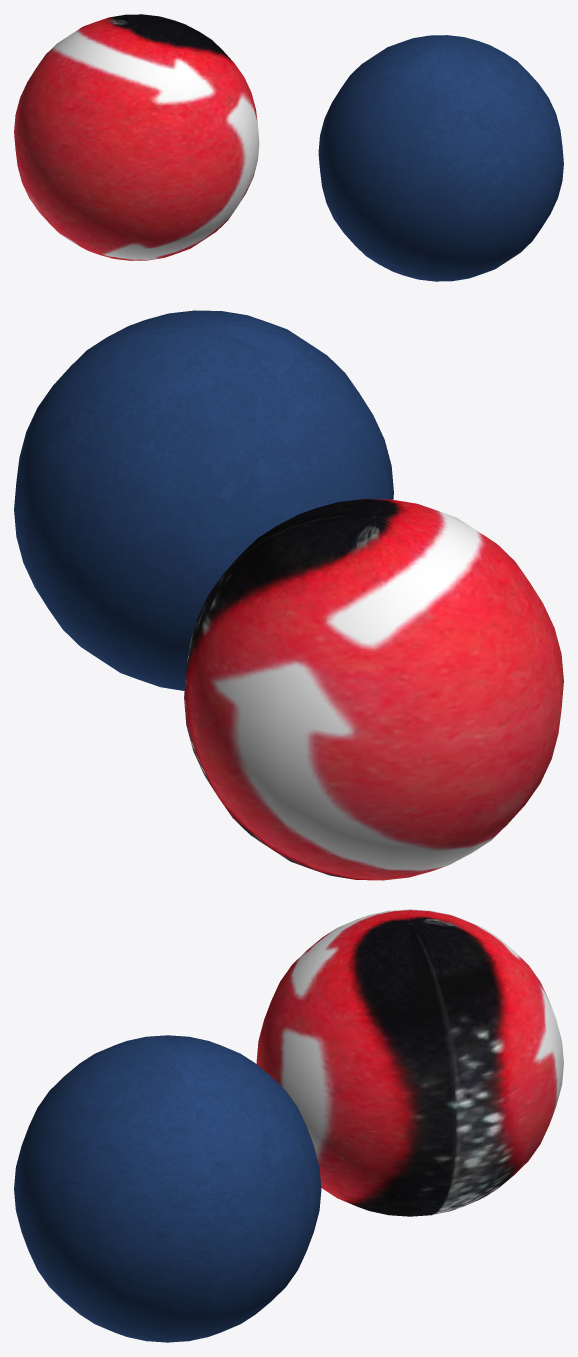
The model's file is ball2.fbx.
3 views of the same model, one above another, from view 1: azimuth 30°, elevation 25°; view 2: azimuth 150°, elevation 25°; view 3: azimuth 270°, elevation 25° (orthographic). The views are drawn at different scales.
Visible parts, largest first — view 1: pSphere1, pSphere2; view 2: pSphere1, pSphere2; view 3: pSphere2, pSphere1.
Boxes of the visible parts, left/top/right/bottom form: pSphere1: left=14, top=14, right=259, bottom=260; pSphere2: left=318, top=35, right=563, bottom=281; pSphere1: left=184, top=499, right=563, bottom=880; pSphere2: left=14, top=310, right=393, bottom=690; pSphere2: left=14, top=1035, right=321, bottom=1342; pSphere1: left=256, top=909, right=563, bottom=1216.
Size of the model in its own units: 146 by 74.36 by 133.
Materials: 2 (2 with a texture image).
